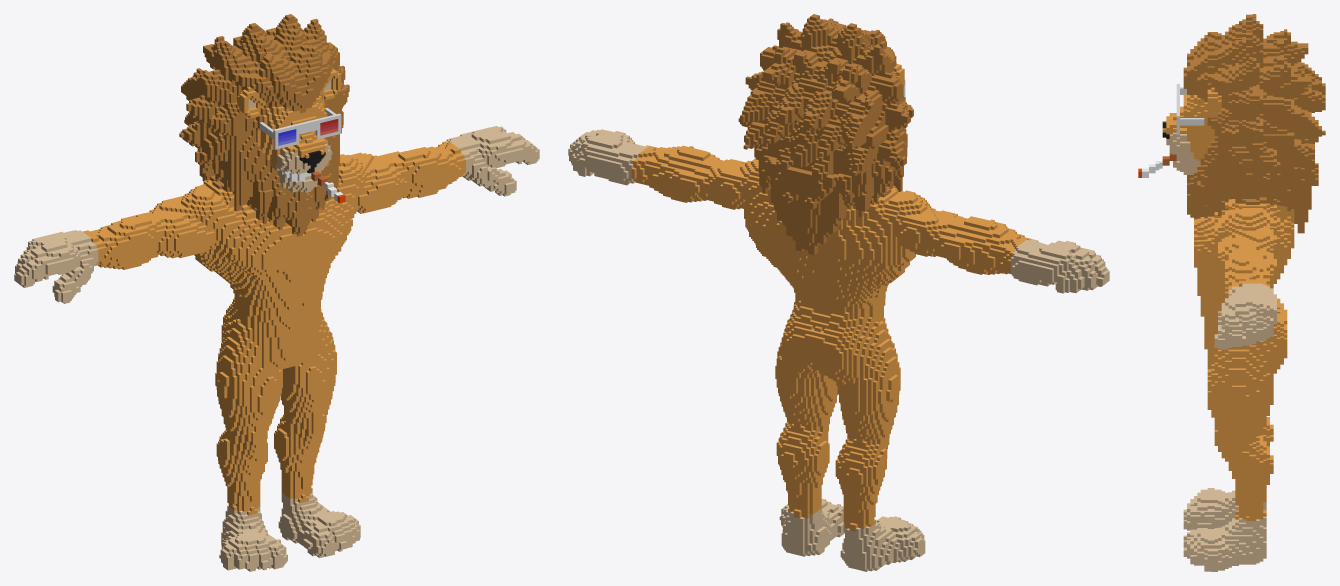
Rendered from 99-DLJ4UQMm.fbx.
3 renders of one model, left to right at view 1: azimuth 30°, elevation 25°; view 2: azimuth 150°, elevation 25°; view 3: azimuth 270°, elevation 25°, orthographic. The views are drawn at different scales.
Parts seen in each view (by area): view 1: cigarette; view 2: cigarette; view 3: cigarette.
Part boxes in pixels (x1,y1,x2,y2): cigarette: (14,14,539,571); cigarette: (568,14,1109,571); cigarette: (1138,14,1325,571).
Bounding box in the file's own units: 17.2 × 16.5 × 5.4.
Materials: 4 (4 with a texture image).
